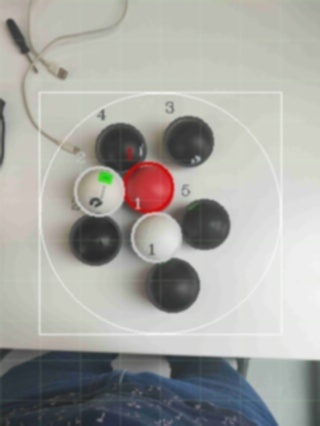Pelota blanca: (26, 0, 129, 78), (143, 257, 201, 312), (177, 198, 230, 251), (129, 212, 182, 264), (71, 164, 123, 216)
Pelota negra: (0, 353, 278, 425), (161, 113, 214, 168), (68, 214, 123, 267), (177, 198, 230, 251), (95, 121, 147, 168)
Pelota roja: (121, 158, 174, 214)
